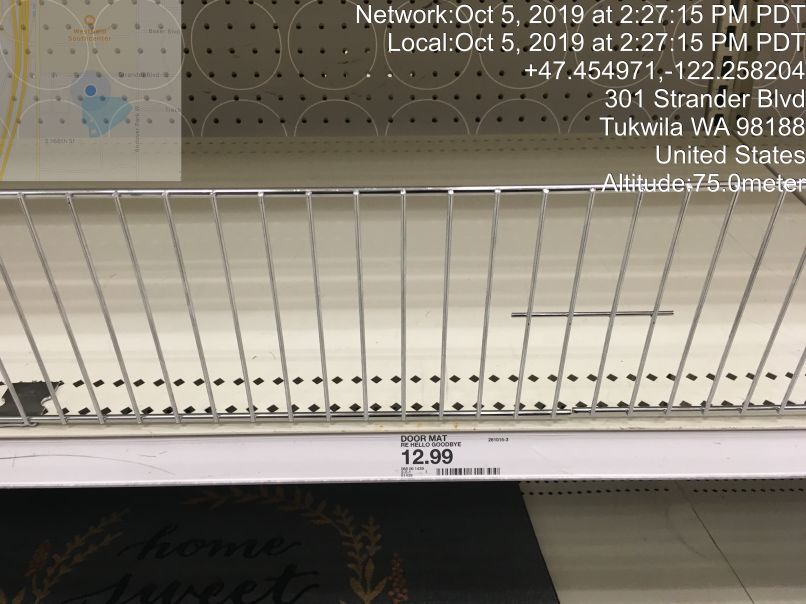Label: (392, 426, 522, 487)
Location: (592, 82, 806, 170)
Time: (349, 1, 806, 58)
Void: (9, 35, 806, 381)
